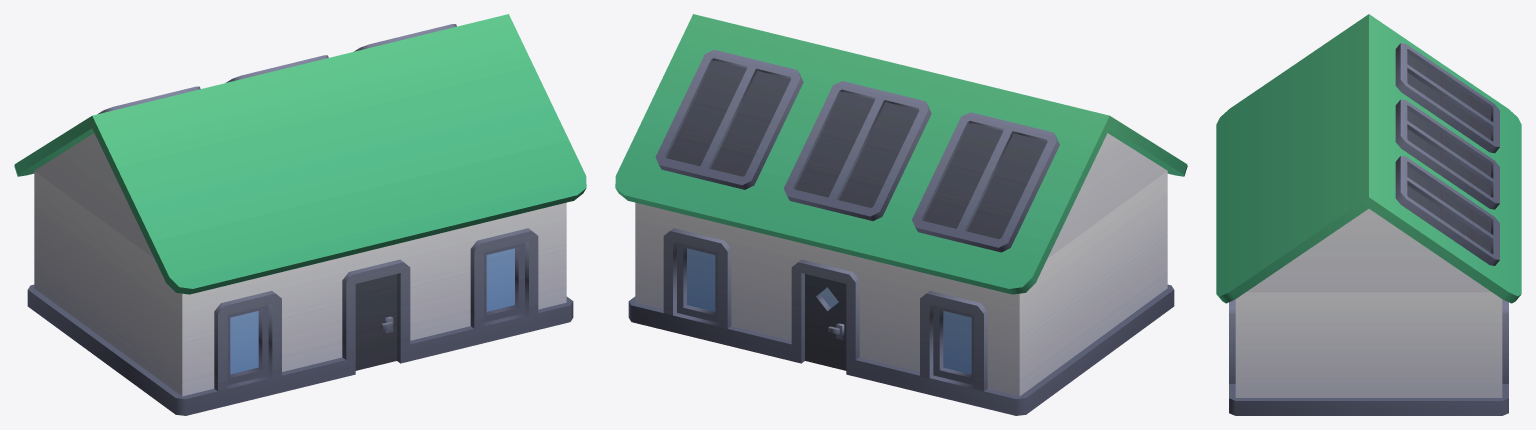
Rendered from suburban-building-type-h.glb.
The picture shows the model from 3 angles, left to right: view 1: azimuth 30°, elevation 25°; view 2: azimuth 150°, elevation 25°; view 3: azimuth 270°, elevation 25°; orthographic projection. The views are drawn at different scales.
Visible parts, largest first — view 1: building-type-h; view 2: building-type-h; view 3: building-type-h.
Part boxes in pixels (left/top/right/bottom): building-type-h: left=14, top=14, right=586, bottom=415; building-type-h: left=615, top=14, right=1187, bottom=415; building-type-h: left=1216, top=14, right=1521, bottom=415.
Bounding box in the file's own units: 1.3 × 0.7375 × 0.9161.
Materials: 1 (1 with a texture image).
